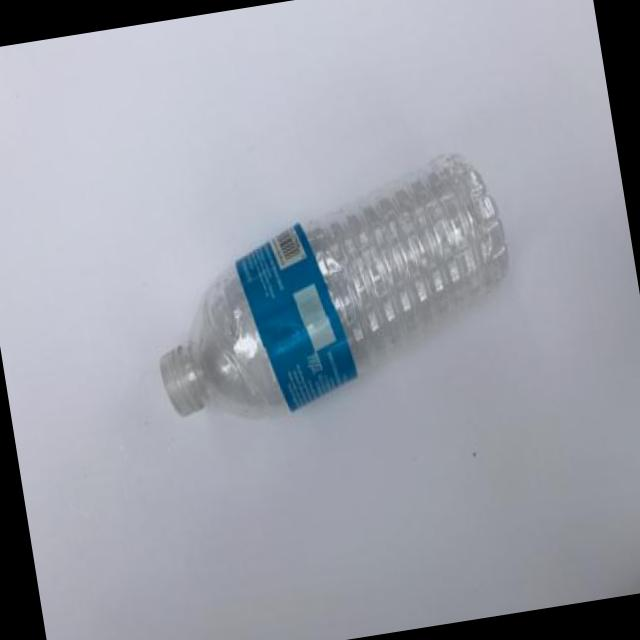Recycle: (135, 151, 528, 436)
